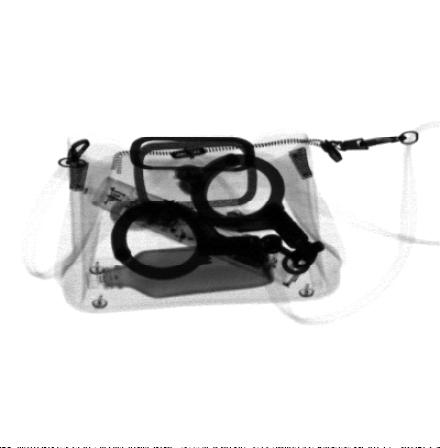Baton: (88, 177, 295, 283)
HandCuffs: (108, 153, 324, 282)
